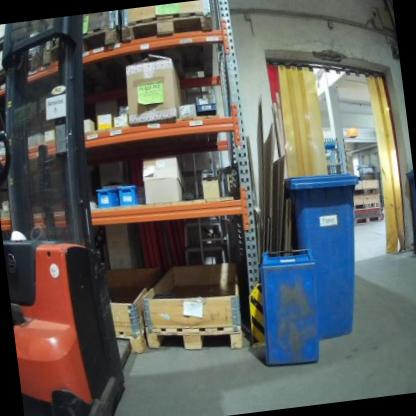pallet: (144, 315, 244, 362), (37, 22, 121, 67), (119, 9, 214, 44), (119, 333, 148, 355), (352, 186, 379, 198), (353, 200, 380, 212), (354, 214, 382, 225)
pallet_truck: (0, 13, 142, 416)
small_load_carrier: (113, 183, 138, 205), (92, 187, 114, 208)
